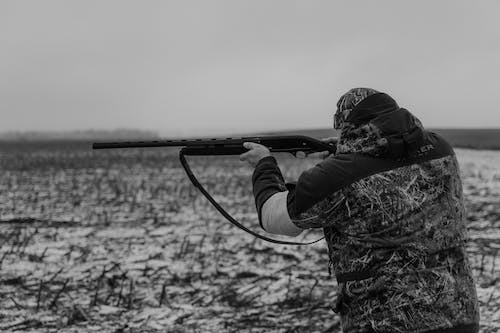gun: (90, 133, 337, 160)
